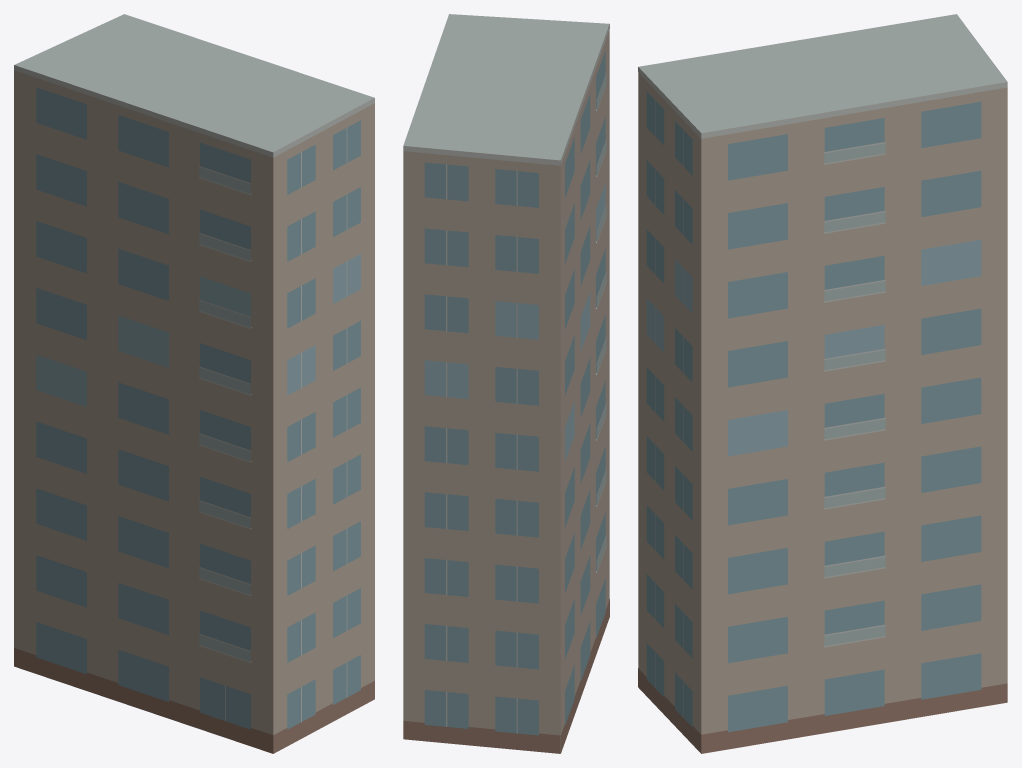
The model's file is survey-upis-32531244.glb.
3 renders of one model, left to right at view 1: azimuth 30°, elevation 25°; view 2: azimuth 150°, elevation 25°; view 3: azimuth 270°, elevation 25°, orthographic. The views are drawn at different scales.
Visible parts, largest first — view 1: survey-upis-32531244.tmp; view 2: survey-upis-32531244.tmp; view 3: survey-upis-32531244.tmp.
Part boxes in pixels (<box>): survey-upis-32531244.tmp: <box>14,14,374,753</box>; survey-upis-32531244.tmp: <box>403,14,609,753</box>; survey-upis-32531244.tmp: <box>638,14,1007,753</box>.
Size of the model in its own units: 11.33 by 27.45 by 14.82.
